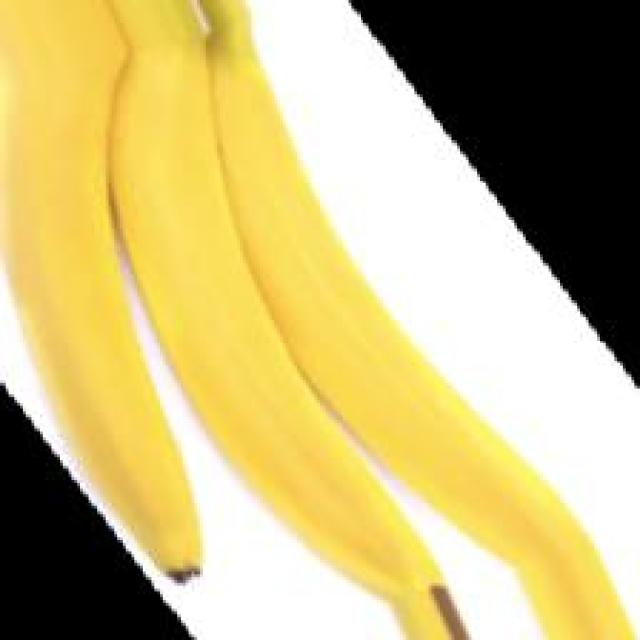banana: (45, 47, 602, 596)
